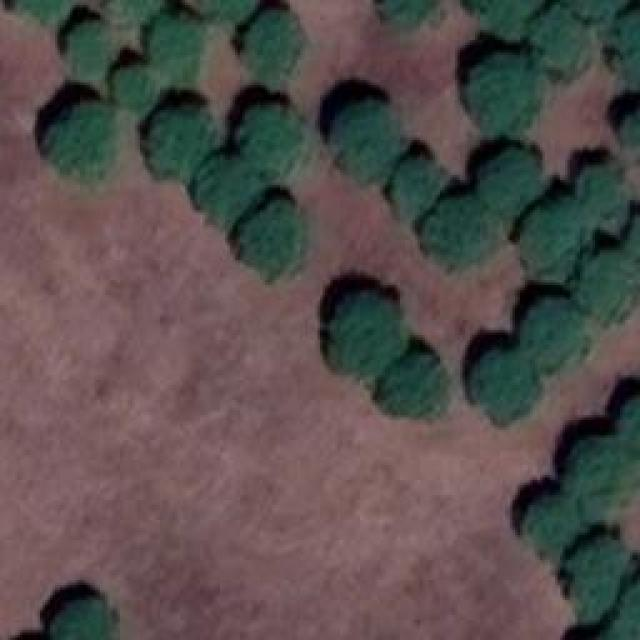Tree: (325, 288, 405, 373), (47, 100, 115, 180), (140, 105, 210, 180), (560, 435, 628, 510), (465, 57, 530, 135), (468, 348, 538, 418), (333, 100, 398, 175), (418, 195, 488, 263), (235, 103, 300, 176), (520, 198, 583, 271), (527, 8, 585, 83), (380, 355, 443, 418), (145, 10, 203, 78), (240, 202, 298, 270), (525, 297, 583, 365), (245, 10, 305, 75), (568, 538, 623, 608), (575, 253, 633, 318), (478, 147, 533, 215), (193, 158, 248, 221), (523, 495, 576, 553), (390, 155, 435, 218), (55, 595, 118, 640), (60, 23, 110, 76), (578, 162, 623, 220), (468, 0, 541, 35), (107, 68, 155, 111), (615, 5, 640, 83), (615, 100, 640, 163), (385, 0, 438, 25), (7, 0, 62, 22), (620, 395, 640, 450), (103, 0, 158, 18), (208, 0, 253, 18)
